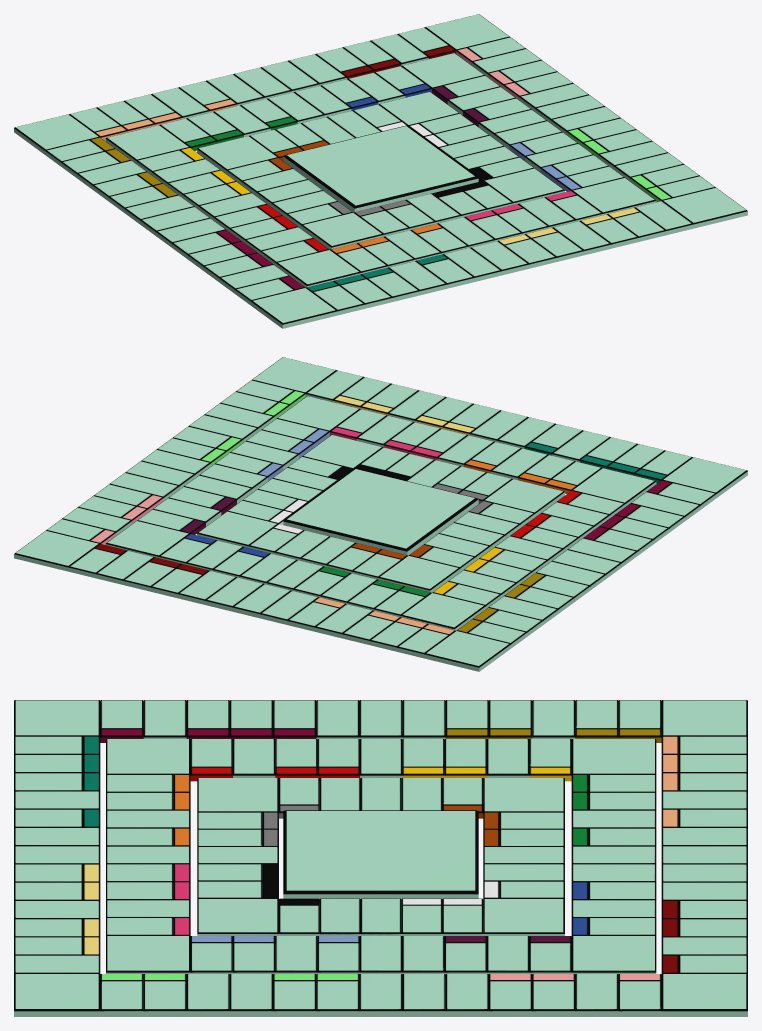
File: tablero_test_01.fbx
The picture shows the model from 3 angles, top to bottom: view 1: azimuth 30°, elevation 25°; view 2: azimuth 150°, elevation 25°; view 3: azimuth 270°, elevation 25°; orthographic projection. The views are drawn at different scales.
Visible parts, largest first — view 1: Centro, N01_Corner01, N01_Corner02, N01_Corner04, N02_Corner02, N03_Corner02, N02_Corner01, N02_Corner03, N01_Corner03, N03_Corner01, N03_Corner03, N02_Corner04 (+109 smaller); view 2: Centro, N01_Corner04, N01_Corner03, N01_Corner01, N02_Corner01, N03_Corner01, N02_Corner02, N02_Corner04, N01_Corner02, N03_Corner02, N03_Corner04, N02_Corner03 (+109 smaller); view 3: Centro, N01_Corner02, N01_Corner03, N02_Corner04, N02_Corner03, N01_Corner01, N01_Corner04, N03_Corner03, N03_Corner04, N02_Corner01, N02_Corner02, N03_Corner01 (+109 smaller).
Boxes of the visible parts, x1,y1,x2,y2 form: Centro: (283, 125, 478, 212); N01_Corner01: (251, 288, 337, 328); N01_Corner02: (662, 187, 747, 228); N01_Corner04: (14, 114, 99, 154); N02_Corner02: (276, 250, 360, 287); N03_Corner02: (301, 212, 383, 249); N02_Corner01: (105, 125, 189, 163); N02_Corner03: (572, 177, 656, 214); N01_Corner03: (425, 14, 510, 50); N03_Corner01: (197, 136, 278, 174); N03_Corner03: (483, 168, 564, 204); N02_Corner04: (401, 53, 484, 88); Centro: (283, 468, 478, 555); N01_Corner04: (424, 631, 510, 671); N01_Corner03: (14, 530, 99, 571); N01_Corner01: (662, 457, 747, 497); N02_Corner01: (401, 593, 485, 630); N03_Corner01: (378, 555, 459, 592); N02_Corner02: (572, 468, 656, 506); N02_Corner04: (105, 521, 189, 557); N01_Corner02: (251, 357, 336, 393); N03_Corner02: (483, 479, 564, 517); N03_Corner04: (197, 511, 278, 547); N02_Corner03: (277, 396, 360, 431); Centro: (283, 810, 478, 899); N01_Corner02: (14, 974, 100, 1016); N01_Corner03: (661, 974, 747, 1016); N02_Corner04: (571, 936, 656, 974); N02_Corner03: (106, 936, 190, 974); N01_Corner01: (14, 700, 100, 736); N01_Corner04: (661, 700, 747, 736); N03_Corner03: (197, 898, 278, 936); N03_Corner04: (483, 898, 564, 936); N02_Corner01: (571, 739, 656, 774); N02_Corner02: (106, 739, 190, 775); N03_Corner01: (483, 778, 564, 812).
Bounding box in the file's own units: 0.255 × 0.00422 × 0.255.
23 materials, 23 textured.
